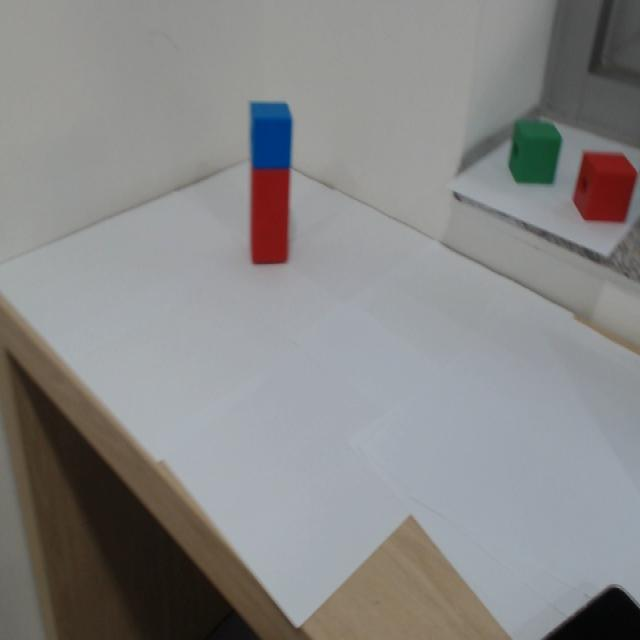cube: (236, 97, 305, 166)
